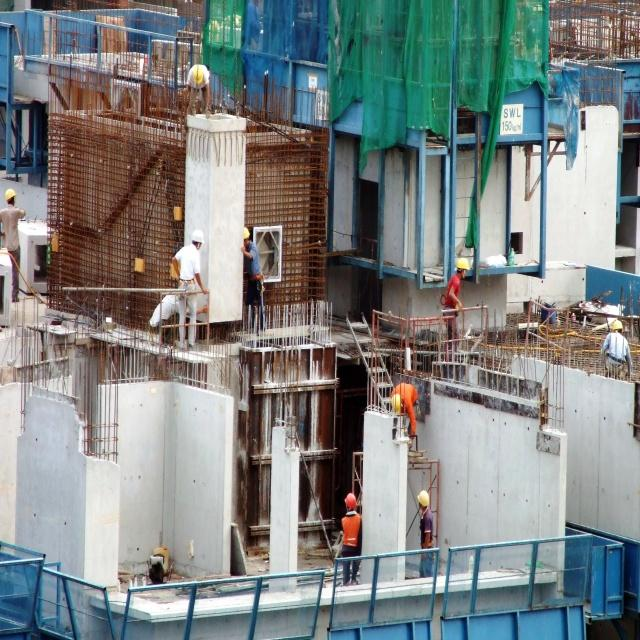helmet: (190, 303, 203, 332), (456, 344, 468, 372), (193, 85, 204, 114), (390, 524, 402, 549), (530, 5, 543, 28), (5, 249, 16, 275), (611, 427, 622, 449)
